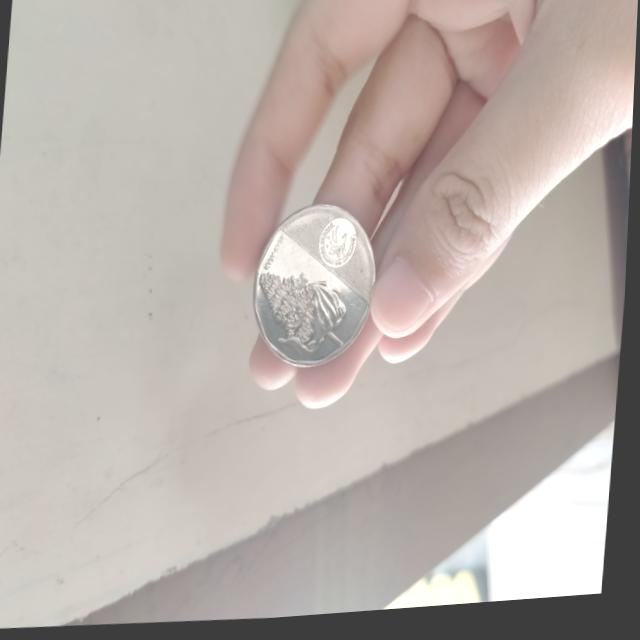10_New_Back: (248, 253, 368, 376)
